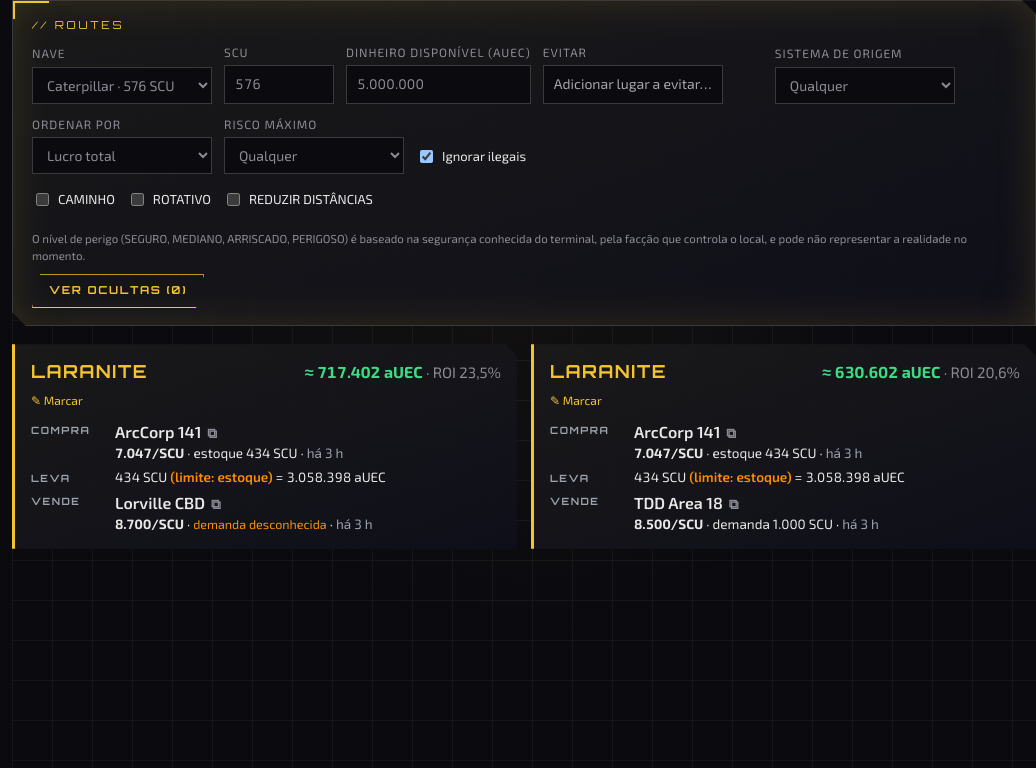
marcações nas rotas › OCULTAR tira o card; Ver ocultas mostra e permite desfazer
The width and height of the screenshot is (1036, 768).
Click the heading "Marcar" below "630.602".
click(576, 401)  # box [550,392,602,410]
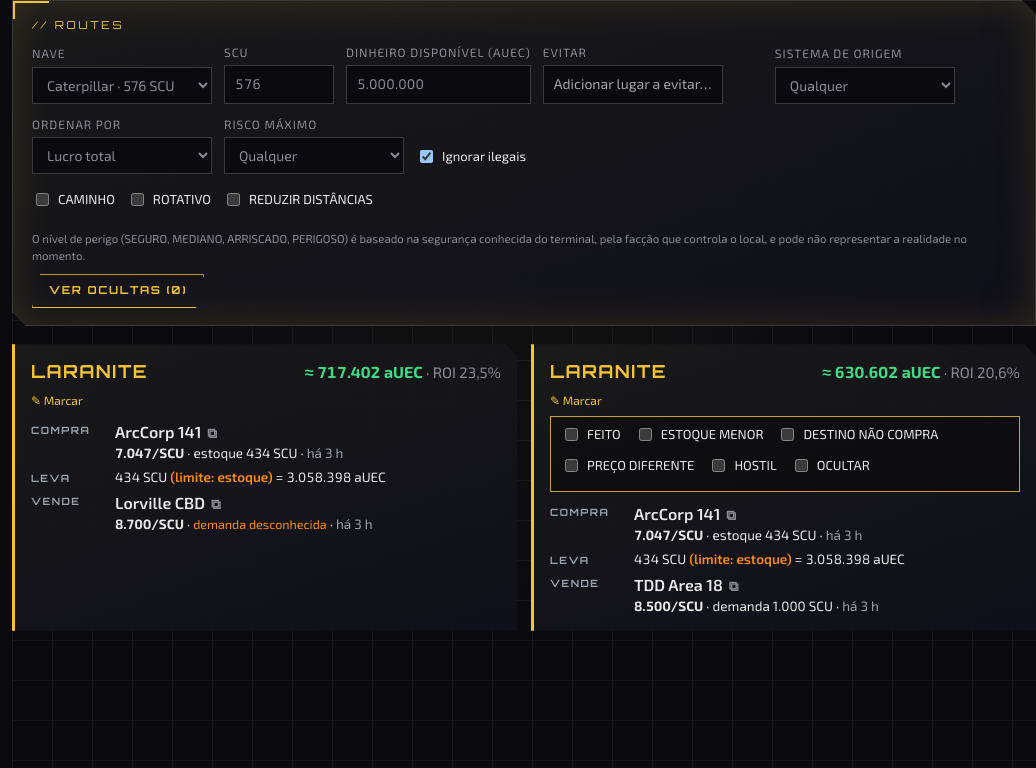
Click the checkbox labelled "OCULTAR".
click(801, 465)  # box [795,459,808,472]
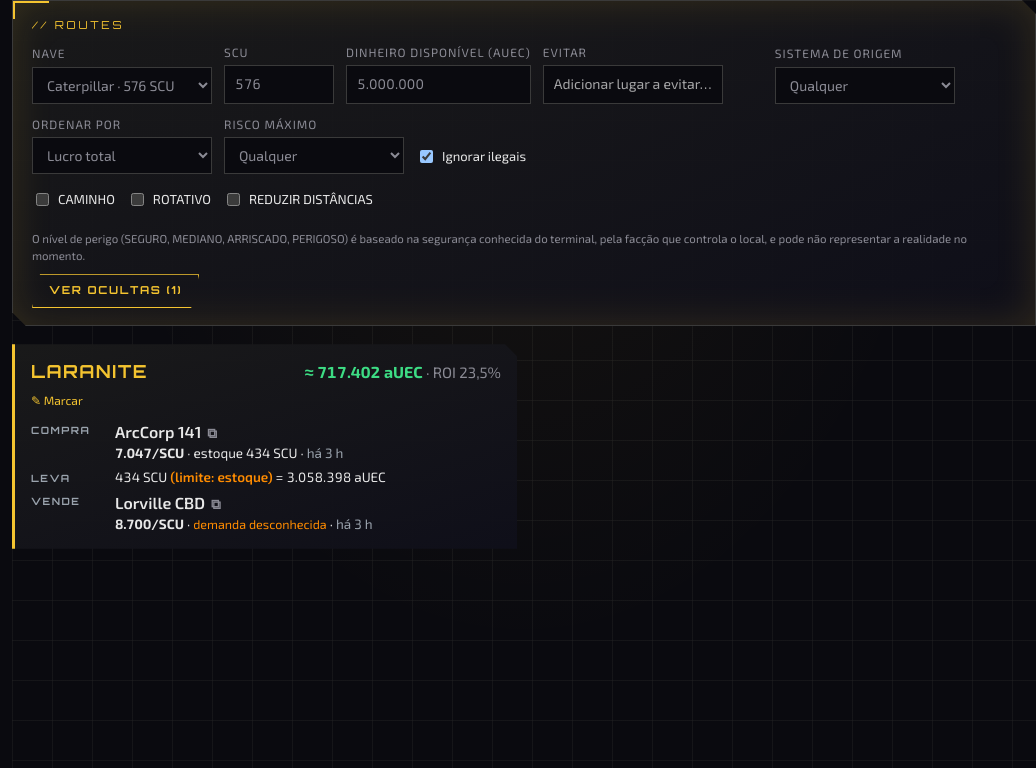
Click the button "Ver ocultas (1)".
click(116, 291)  # box [32,274,199,308]
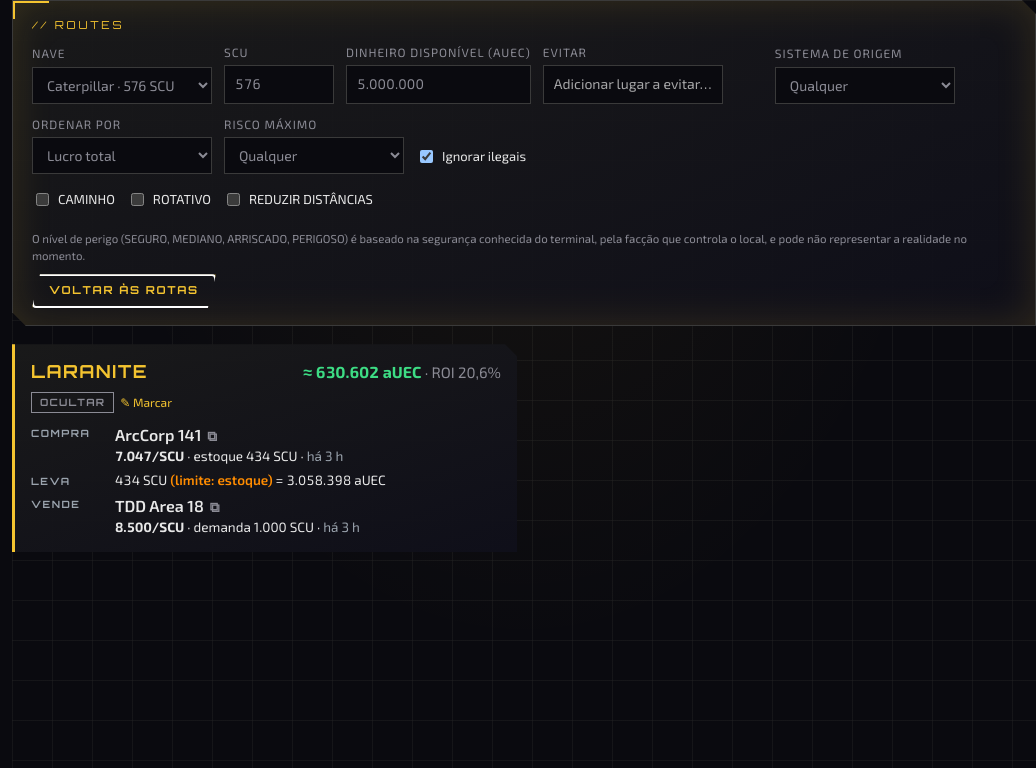
Result: the element that starts with "Laranite" is shown at [12,344,517,552]
Click the heading "Marcar".
click(146, 403)  # box [120,394,172,411]
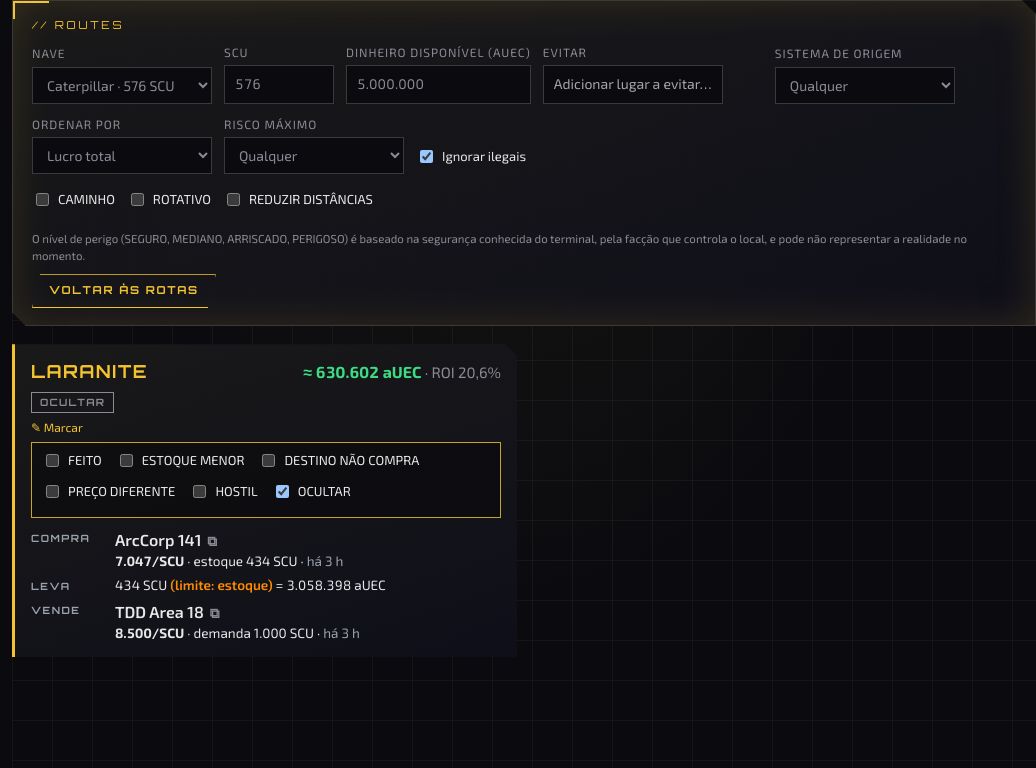
Click the checkbox labelled "OCULTAR".
click(282, 492)  # box [276,485,289,498]
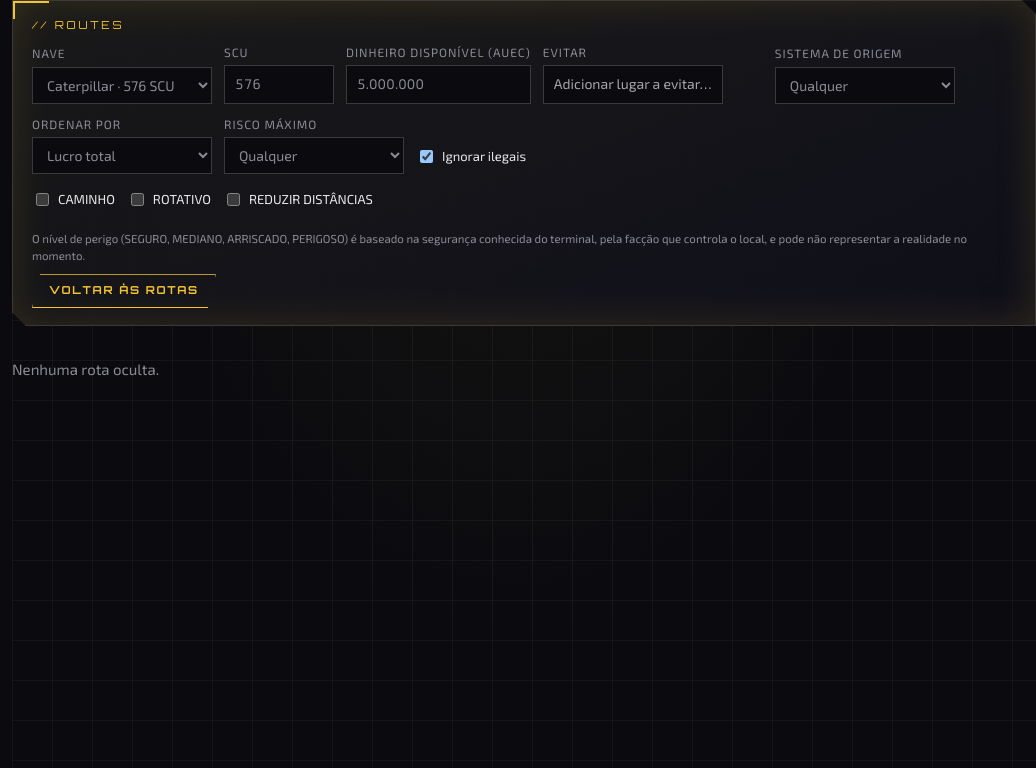
Click the button "Voltar às rotas".
click(124, 291)  # box [32,274,216,308]
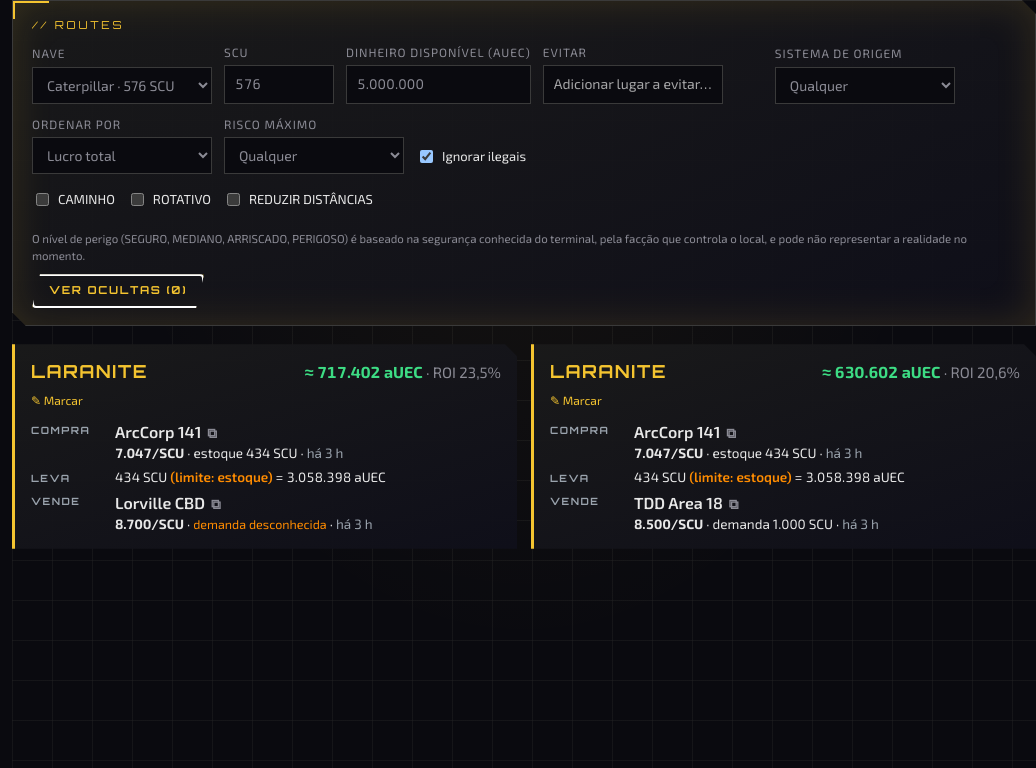
Result: the element that starts with "Laranite" is shown at [531,344,1035,549]
Result: the button "Ver ocultas (0)" is shown at [32,274,204,308]
